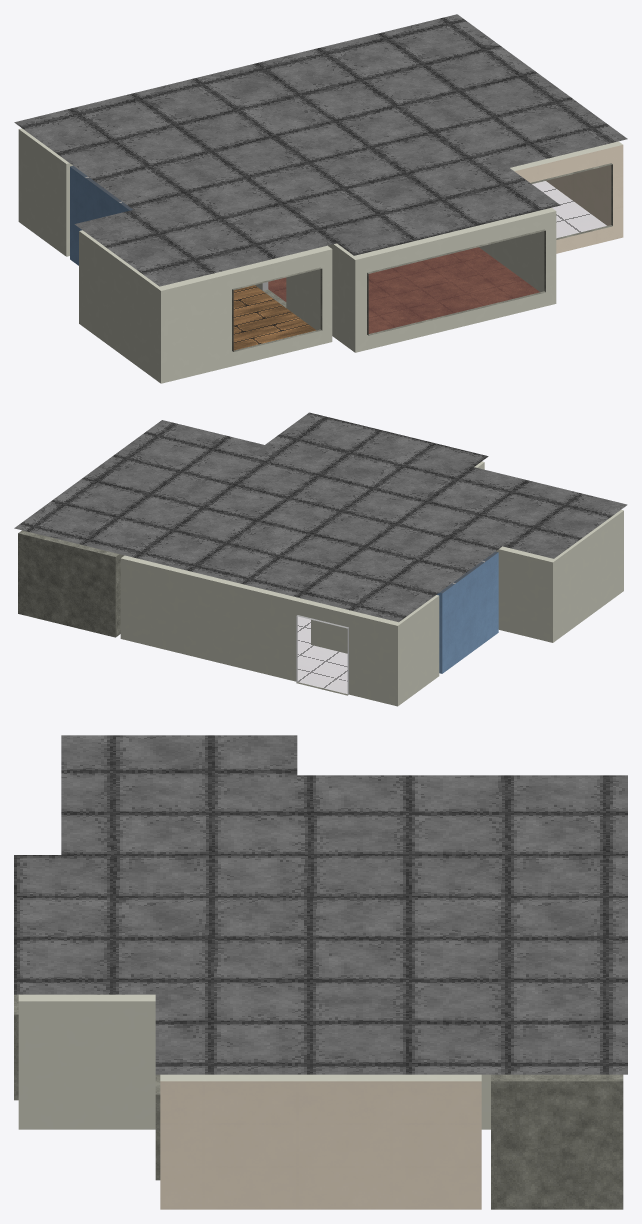
File: Inner.glb
The picture shows the model from 3 angles, top to bottom: view 1: azimuth 30°, elevation 25°; view 2: azimuth 150°, elevation 25°; view 3: azimuth 270°, elevation 25°; orthographic projection. The views are drawn at different scales.
Parts seen in each view (by area): view 1: Hall2; view 2: Hall2; view 3: Hall2.
Boxes of the visible parts, box(x1,y1,x2,y2) form: Hall2: box(14, 14, 627, 383); Hall2: box(14, 412, 627, 706); Hall2: box(14, 735, 627, 1209).
Size of the model in its own units: 17 by 3.2 by 13.
10 materials, 9 textured.
